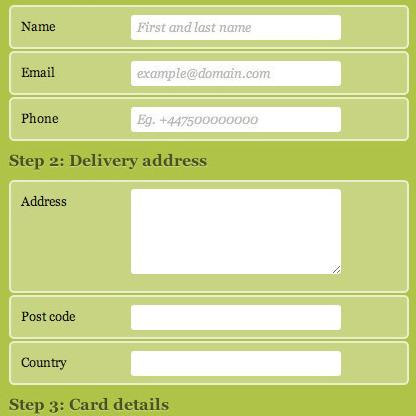field: (128, 187, 343, 276), (127, 347, 344, 378), (126, 303, 344, 332), (128, 106, 343, 134), (130, 14, 343, 41), (127, 60, 343, 86)
field_with_label: (20, 186, 344, 278), (20, 345, 346, 379), (20, 104, 344, 137), (22, 301, 345, 334), (22, 58, 345, 88), (20, 13, 345, 42)
